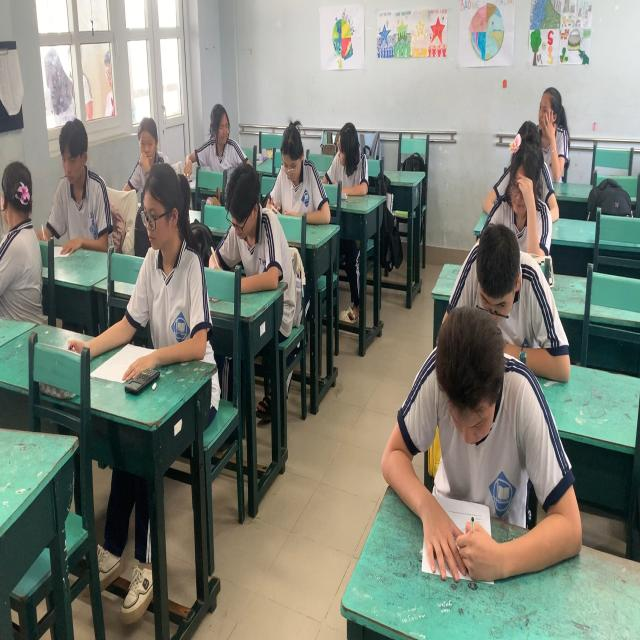cheating: (2, 150, 37, 337), (324, 112, 366, 204), (203, 92, 238, 188)
not_cheating: (414, 320, 554, 520), (124, 158, 209, 364), (460, 226, 556, 344), (220, 156, 294, 297), (52, 106, 112, 262), (493, 121, 547, 239), (528, 61, 588, 159), (274, 111, 324, 219), (126, 110, 165, 200)
